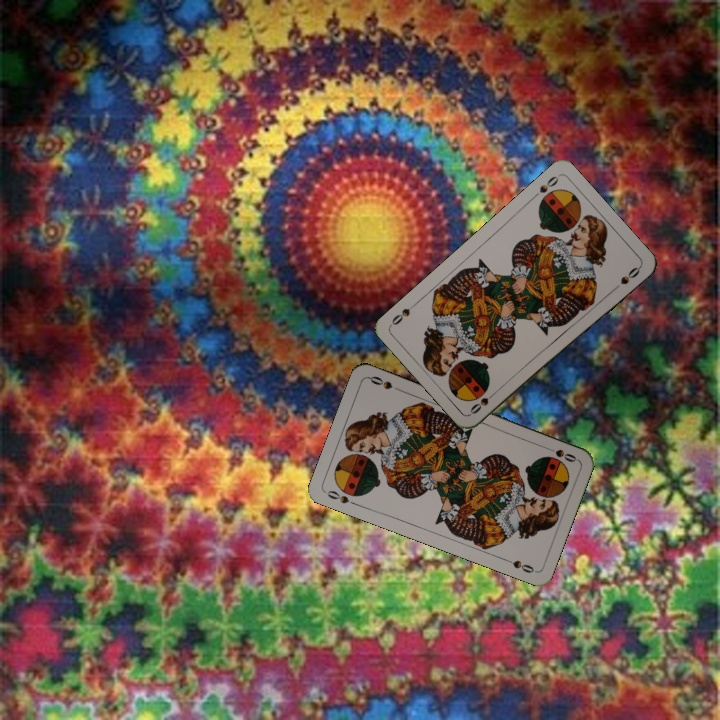SO: (466, 386, 500, 417), (528, 172, 561, 202), (540, 442, 579, 465), (323, 486, 361, 508)
